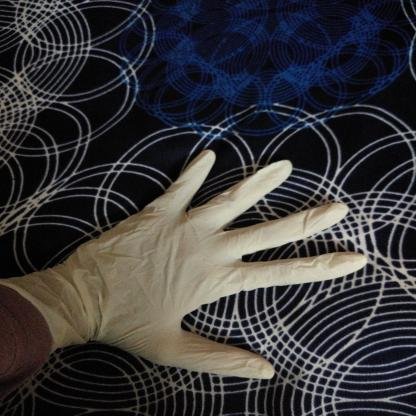gloved_hand: (2, 145, 369, 389)
